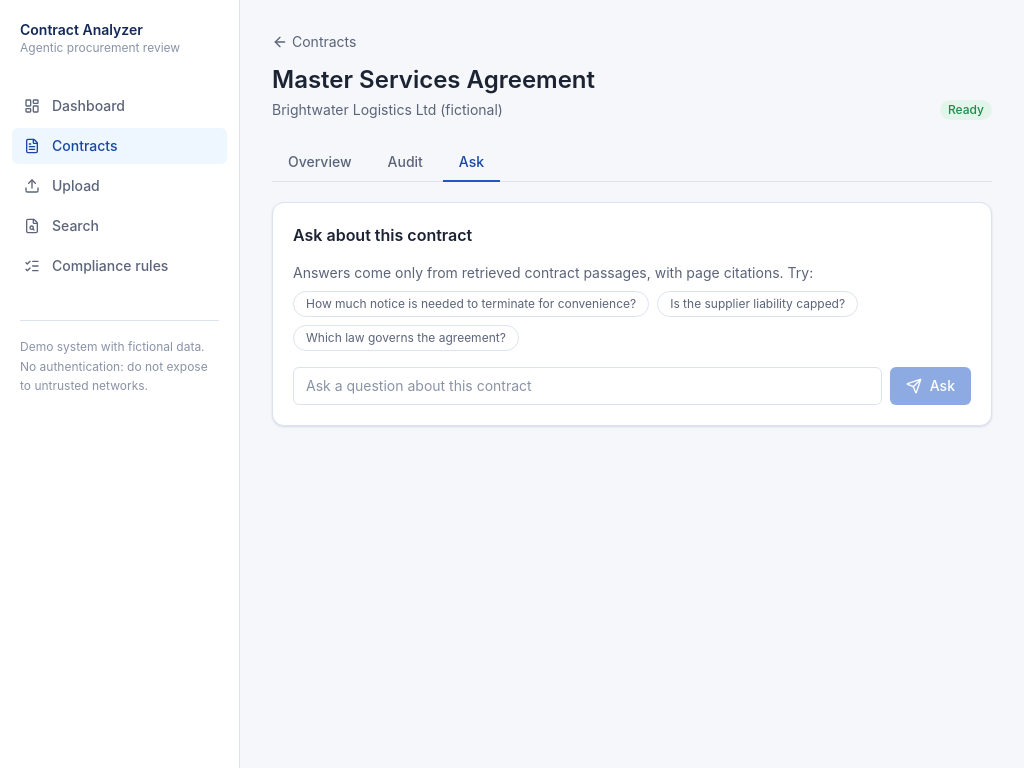
Scenario: Ask tab › explains LLM_UNAVAILABLE
This screenshot has width=1024, height=768.
Type "Which law governs?" into the field labelled "question" at (587, 386), box [293,367,882,405]
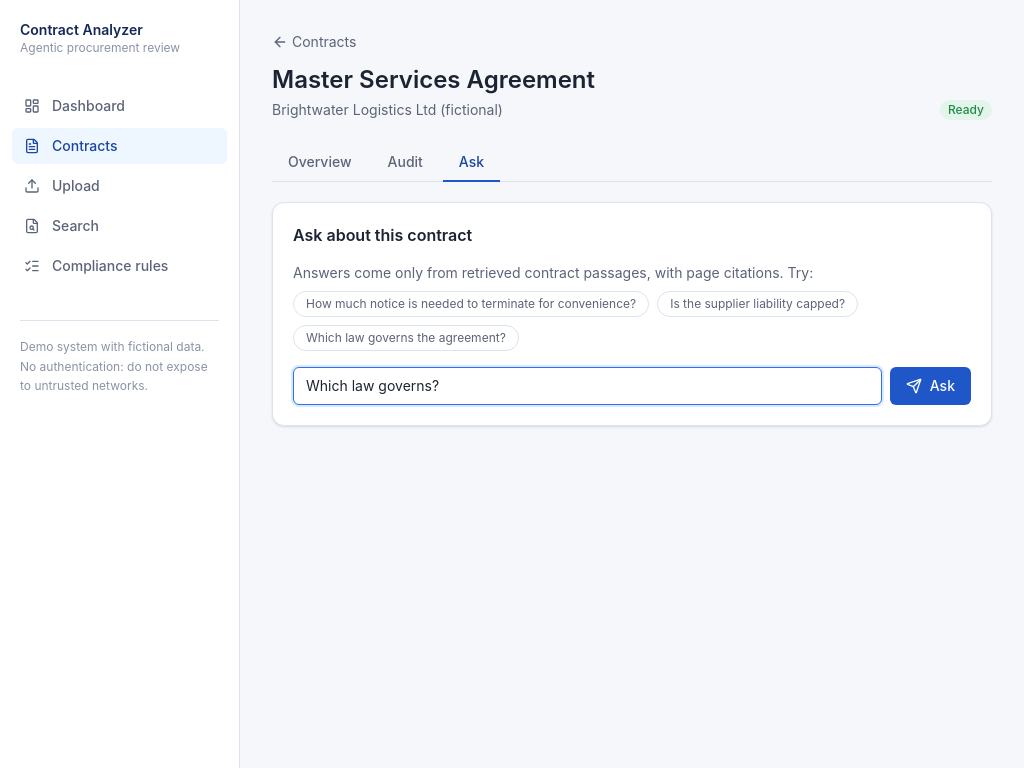
Click the button "Ask" at (930, 386), box [890,367,971,405]
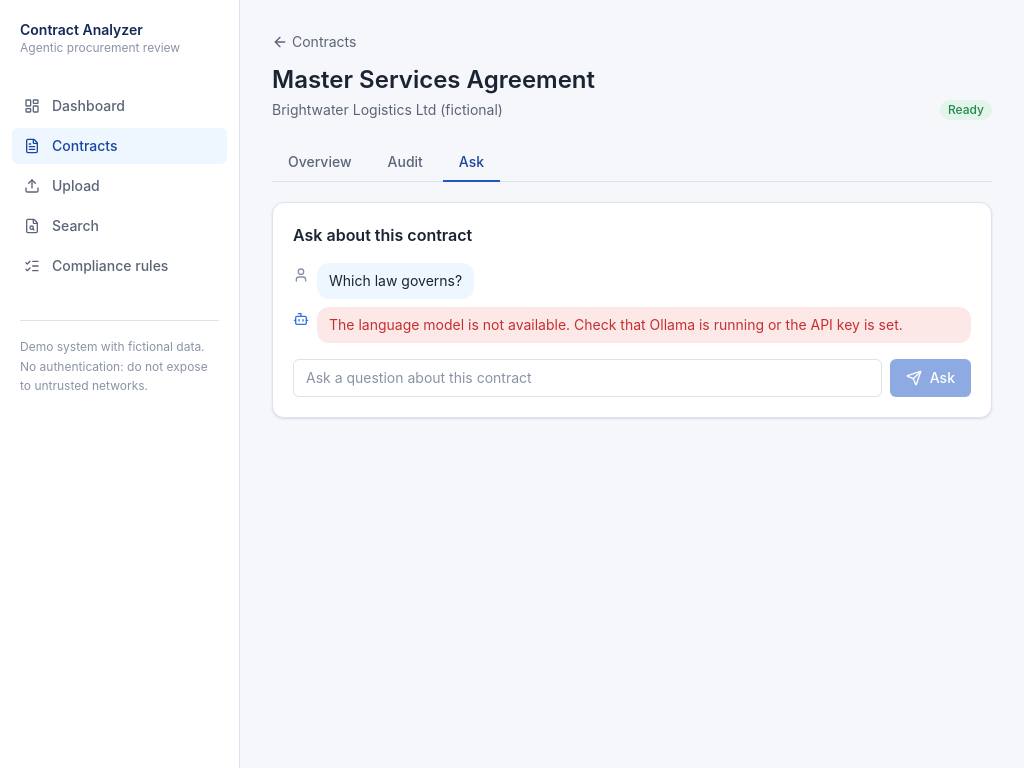
Now the text "language model is not available" is shown, box [329,316,903,333]
